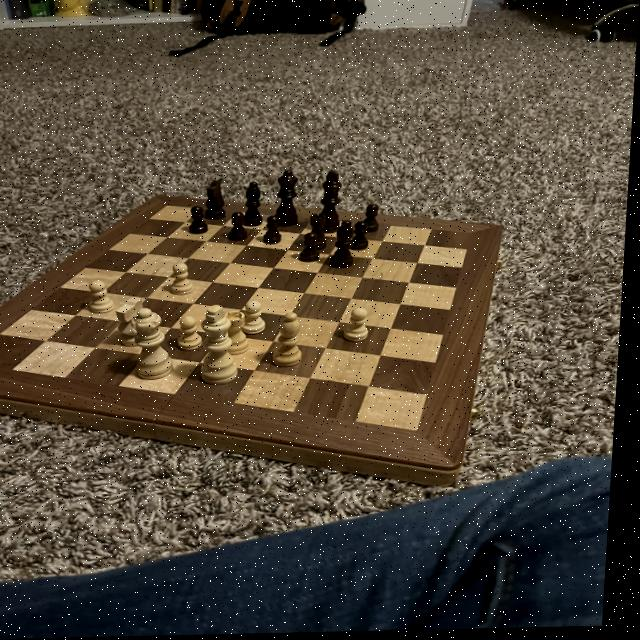bishop: (331, 220, 362, 272), (243, 182, 268, 230)
black-bishop: (316, 170, 349, 235), (276, 170, 305, 230)
black-king: (205, 179, 233, 223)
black-knight: (263, 214, 289, 247), (228, 211, 252, 245), (188, 205, 213, 237), (301, 233, 325, 266), (361, 203, 387, 233), (354, 220, 376, 253)
black-queen: (307, 212, 332, 253)
black-rook: (271, 312, 312, 370)
white-bishop: (198, 304, 247, 388)
white-king: (116, 297, 157, 351)
white-knight: (90, 277, 122, 319), (177, 314, 208, 353), (344, 306, 374, 345), (243, 301, 273, 335), (171, 263, 199, 298)
white-pawn: (131, 306, 181, 384)
white-queen: (222, 311, 258, 358)
